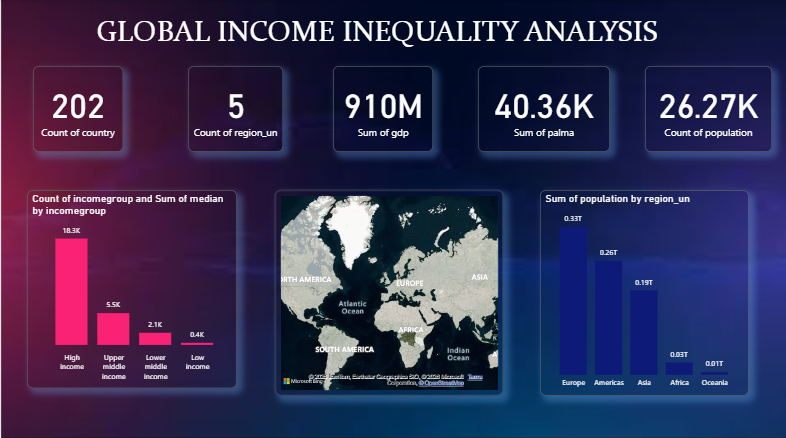

Layout of this report page (visuals, bound fields, positions):
{"tool":"powerbi","page":{"name":"Page 1","canvas":[1280,720],"ordinal":0},"visuals":[{"type":"textbox","box":[85,11.7,1045,90],"z":0},{"type":"card","fields":{"Values":["Count(Sheet1.country)"]},"box":[51.7,108.3,146.7,140],"z":1000},{"type":"card","fields":{"Values":["Count(Sheet1.region_un)"]},"box":[305,108.3,155,140],"z":2000},{"type":"card","fields":{"Values":["Sum(Sheet1.gdp)"]},"box":[540,108.3,163.3,140],"z":3000},{"type":"card","fields":{"Values":["Sum(Sheet1.palma)"]},"box":[776.7,108.3,215,140],"z":4000},{"type":"card","fields":{"Values":["CountNonNull(Sheet1.population)"]},"box":[1048.3,108.3,206.7,140],"z":5000},{"type":"clusteredColumnChart","fields":{"Category":["Sheet1.incomegroup"],"Y":["CountNonNull(Sheet1.incomegroup)"]},"box":[41.7,311.7,341.7,323.3],"z":6000},{"type":"filledMap","fields":{"Category":["Sheet1.country"]},"box":[446.7,311.7,371.7,335],"z":7000},{"type":"clusteredColumnChart","fields":{"Category":["Sheet1.region_un"],"Y":["Sum(Sheet1.population)"]},"box":[878.3,311.7,340,335],"z":8000}]}

Visuals, with their boxes in screenshot pixels (x1, y1, x2, y2), scaled from the page's 1280x720 canvas onto the 786x438 screenshot:
textbox: bbox(52, 7, 694, 62)
card - Count(Sheet1.country): bbox(32, 66, 122, 151)
card - Count(Sheet1.region_un): bbox(187, 66, 282, 151)
card - Sum(Sheet1.gdp): bbox(332, 66, 432, 151)
card - Sum(Sheet1.palma): bbox(477, 66, 609, 151)
card - CountNonNull(Sheet1.population): bbox(644, 66, 771, 151)
clusteredColumnChart - Sheet1.incomegroup x CountNonNull(Sheet1.incomegroup): bbox(26, 190, 235, 386)
filledMap - Sheet1.country: bbox(274, 190, 503, 393)
clusteredColumnChart - Sheet1.region_un x Sum(Sheet1.population): bbox(539, 190, 748, 393)
